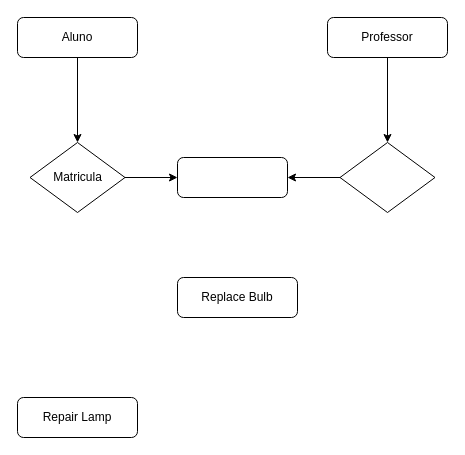
The diagram is 465 pixels wide and 455 high, and some of its shapes have lost their labels. Each missing label, with the centre of its shape:
"Ministra" belongs at (x=387, y=177).
"Turma" belongs at (x=232, y=177).
